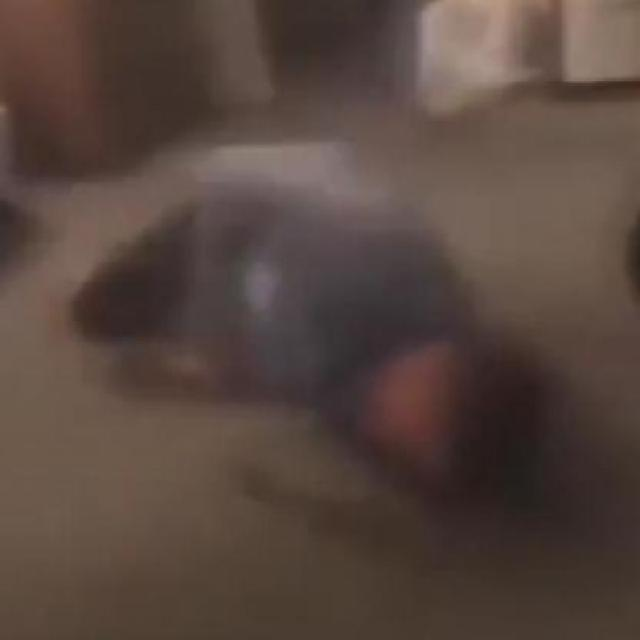fall: (70, 169, 555, 506)
